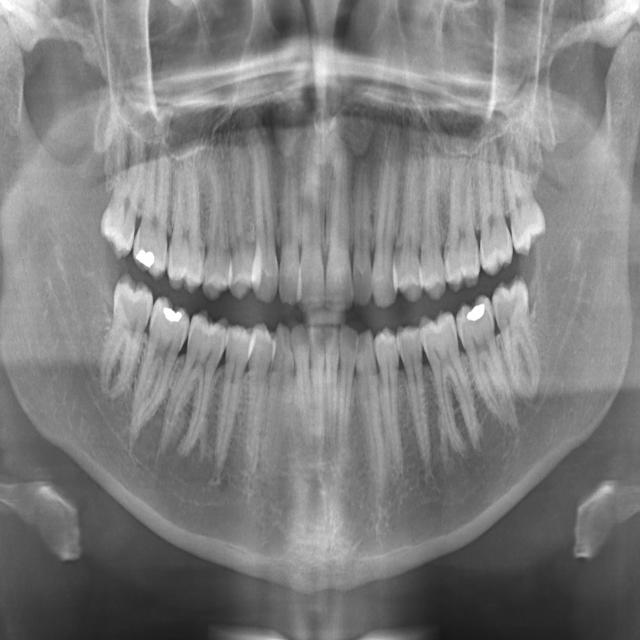AmalgamRestoration: (465, 298, 487, 329), (162, 305, 186, 327), (136, 246, 156, 268)
